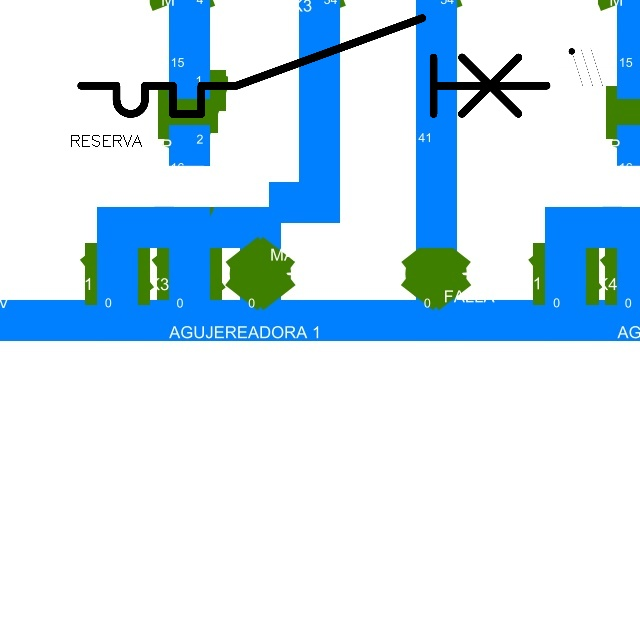interruptor_termomagnetico: (69, 6, 558, 126)
